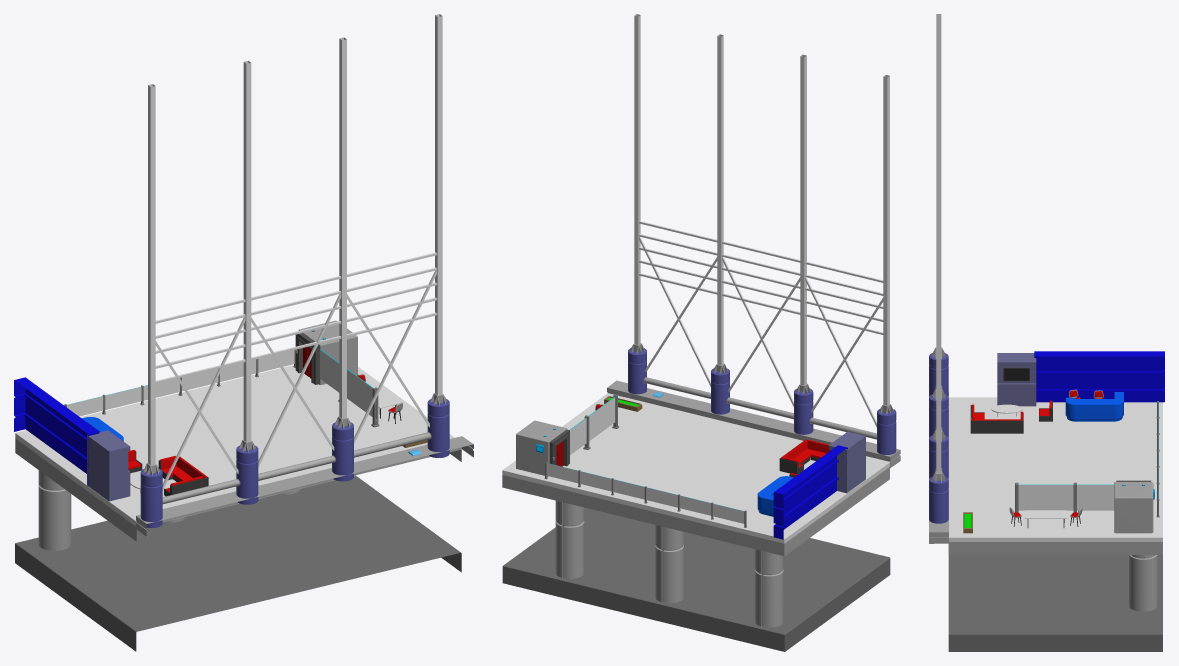
File: levelLayout.fbx
3 renders of one model, left to right at view 1: azimuth 30°, elevation 25°; view 2: azimuth 150°, elevation 25°; view 3: azimuth 270°, elevation 25°, orthographic. The views are drawn at different scales.
Visible parts, largest first — view 1: lowerLevel, floor, verticalSupports, supports, supportColumns, receptionWall, wallBase, frontGlassWall, tvWall, lowerLevelColumns, elevatorShaft, horizontalBar (+2 smaller); view 2: lowerLevel, floor, verticalSupports, lowerLevelColumns, supports, supportColumns, wallBase, receptionWall, frontGlassWall, elevatorShaft, tvWall, horizontalBar (+3 smaller); view 3: floor, lowerLevel, receptionWall, supportColumns, verticalSupports, leftGlassWall, elevatorShaft, tvWall, lowerLevelColumns, desk, sofaB, wallBase (+2 smaller).
Part boxes in pixels (bbox=[...]): lowerLevel: bbox=[15, 475, 461, 651]; floor: bbox=[15, 365, 461, 541]; verticalSupports: bbox=[148, 14, 442, 465]; supports: bbox=[155, 252, 436, 490]; supportColumns: bbox=[140, 393, 449, 527]; receptionWall: bbox=[14, 377, 99, 485]; wallBase: bbox=[136, 436, 473, 536]; frontGlassWall: bbox=[67, 350, 294, 416]; tvWall: bbox=[87, 430, 130, 501]; lowerLevelColumns: bbox=[38, 470, 300, 550]; elevatorShaft: bbox=[295, 320, 357, 384]; horizontalBar: bbox=[162, 432, 431, 504]; lowerLevel: bbox=[502, 507, 890, 651]; floor: bbox=[502, 393, 889, 556]; verticalSupports: bbox=[634, 14, 889, 405]; lowerLevelColumns: bbox=[555, 500, 783, 627]; supports: bbox=[639, 221, 883, 427]; supportColumns: bbox=[628, 343, 896, 454]; wallBase: bbox=[607, 380, 900, 467]; receptionWall: bbox=[773, 445, 847, 539]; frontGlassWall: bbox=[546, 463, 744, 523]; elevatorShaft: bbox=[516, 420, 569, 476]; tvWall: bbox=[828, 431, 865, 493]; horizontalBar: bbox=[643, 377, 876, 439]; floor: bbox=[948, 397, 1162, 554]; lowerLevel: bbox=[948, 555, 1162, 651]; receptionWall: bbox=[1034, 351, 1164, 402]; supportColumns: bbox=[929, 347, 948, 523]; verticalSupports: bbox=[936, 14, 941, 473]; leftGlassWall: bbox=[1018, 484, 1114, 510]; elevatorShaft: bbox=[1114, 480, 1153, 533]; tvWall: bbox=[997, 353, 1036, 406]; lowerLevelColumns: bbox=[1129, 555, 1157, 611]; desk: bbox=[1065, 392, 1123, 421]; sofaB: bbox=[970, 404, 1023, 433]; wallBase: bbox=[929, 392, 948, 543].
Bounding box in the file's own units: 17.1 × 28.37 × 12.1.
